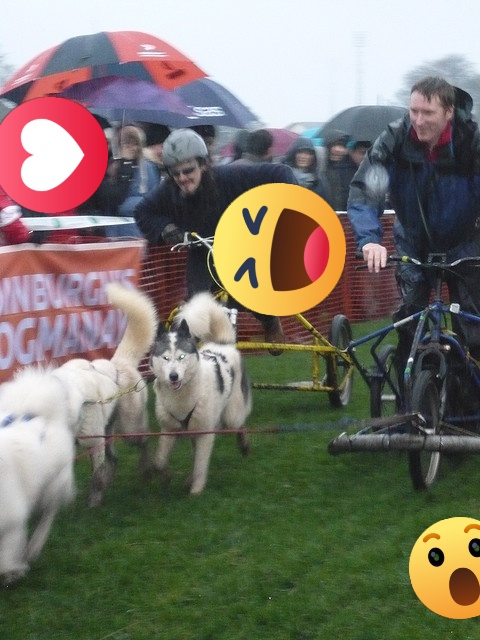haha: (213, 183, 346, 316)
love: (0, 97, 108, 213)
wow: (409, 517, 480, 619)
